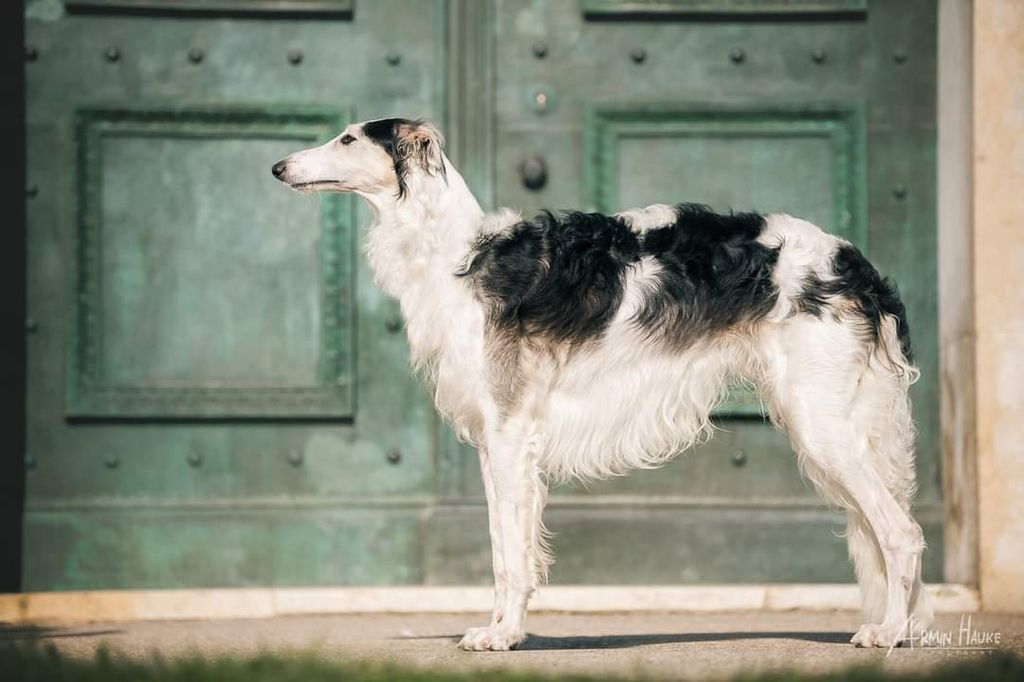borzoi: (272, 109, 962, 659)
